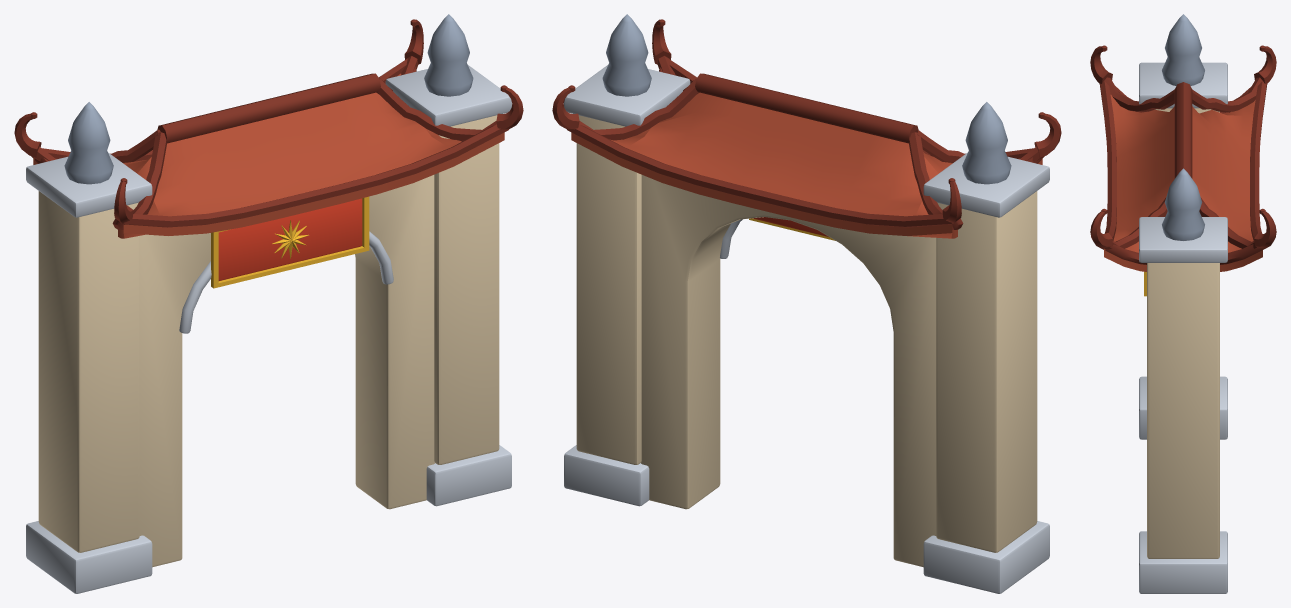
Rendered from cong_lang.glb.
3 views of the same model, side by side, from view 1: azimuth 30°, elevation 25°; view 2: azimuth 150°, elevation 25°; view 3: azimuth 270°, elevation 25° (orthographic). The views are drawn at different scales.
Visible parts, largest first — view 1: cong_lang; view 2: cong_lang; view 3: cong_lang.
Boxes of the visible parts, bbox=[...] form: cong_lang: bbox=[14, 14, 523, 593]; cong_lang: bbox=[552, 14, 1061, 593]; cong_lang: bbox=[1090, 14, 1276, 593].
Size of the model in its own units: 4.5 by 4.58 by 1.89.
